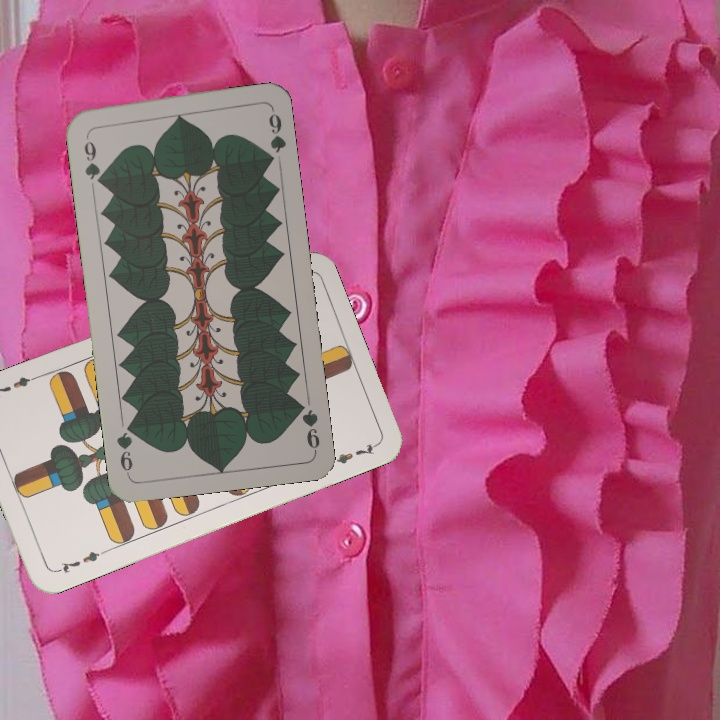E7: (52, 546, 108, 576)
G9: (292, 396, 323, 454), (80, 130, 106, 188)
